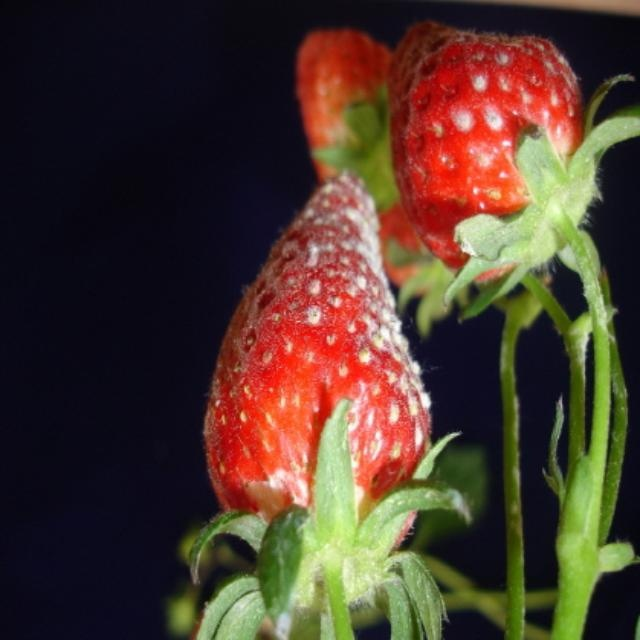Powdery Mildew Fruit: (203, 169, 434, 608), (407, 30, 591, 279)
